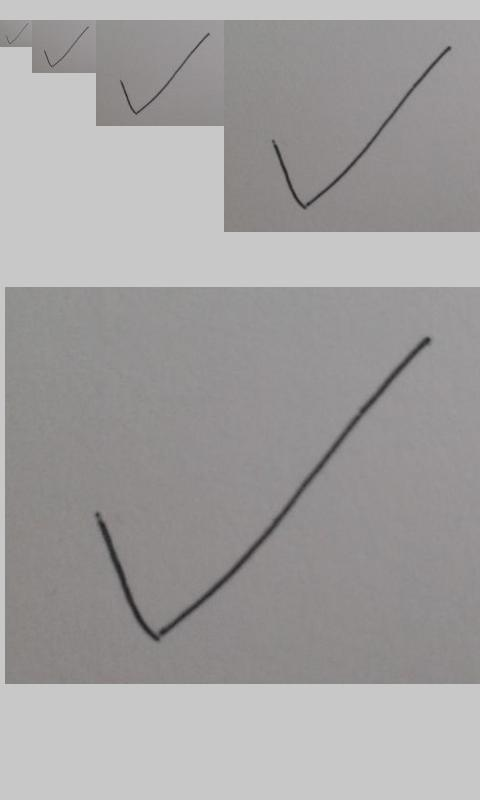check_box: (92, 334, 429, 642), (272, 46, 452, 210), (118, 32, 210, 115), (43, 26, 89, 68), (5, 23, 28, 45)
